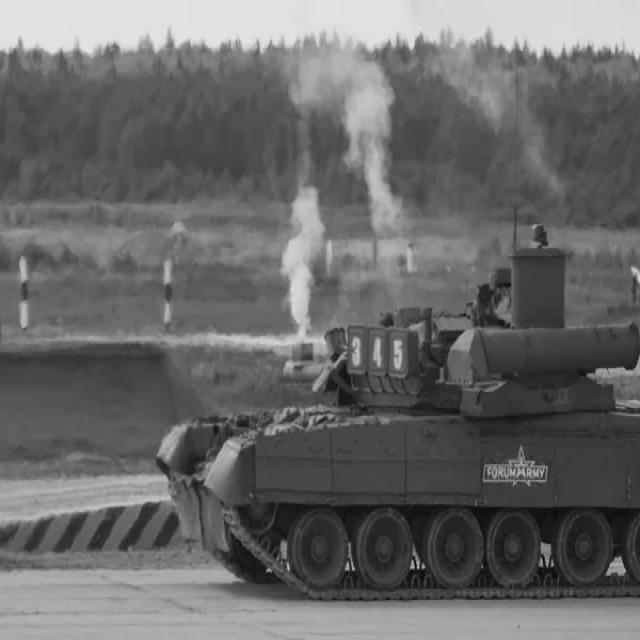Tank: (157, 245, 640, 604)
